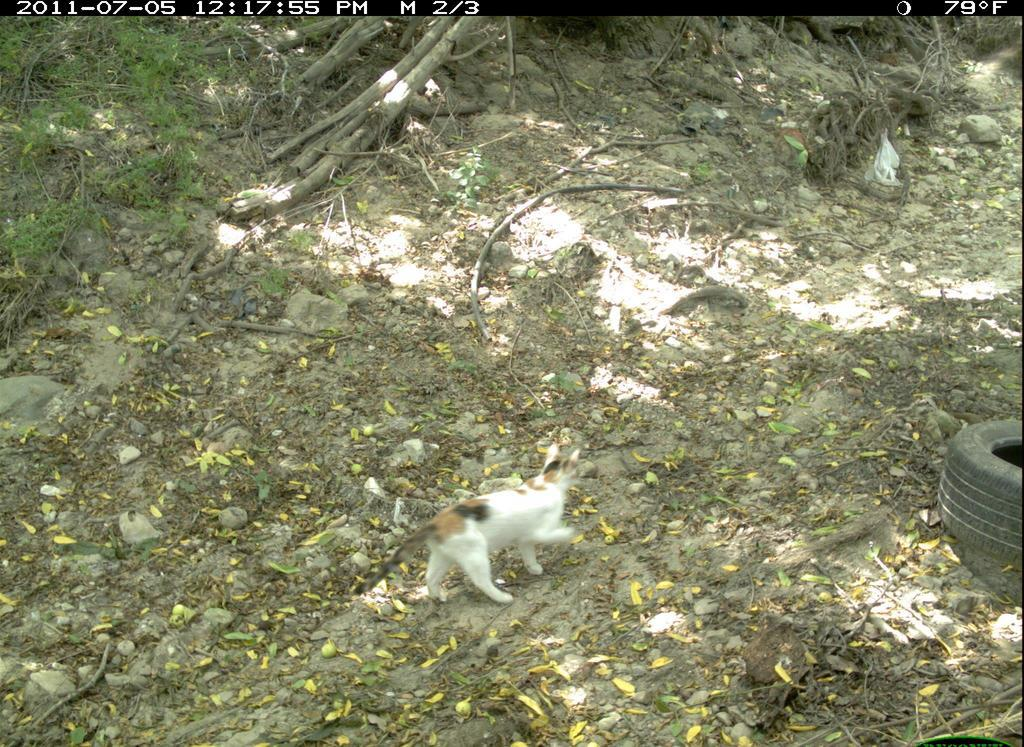cat: (346, 447, 605, 614)
